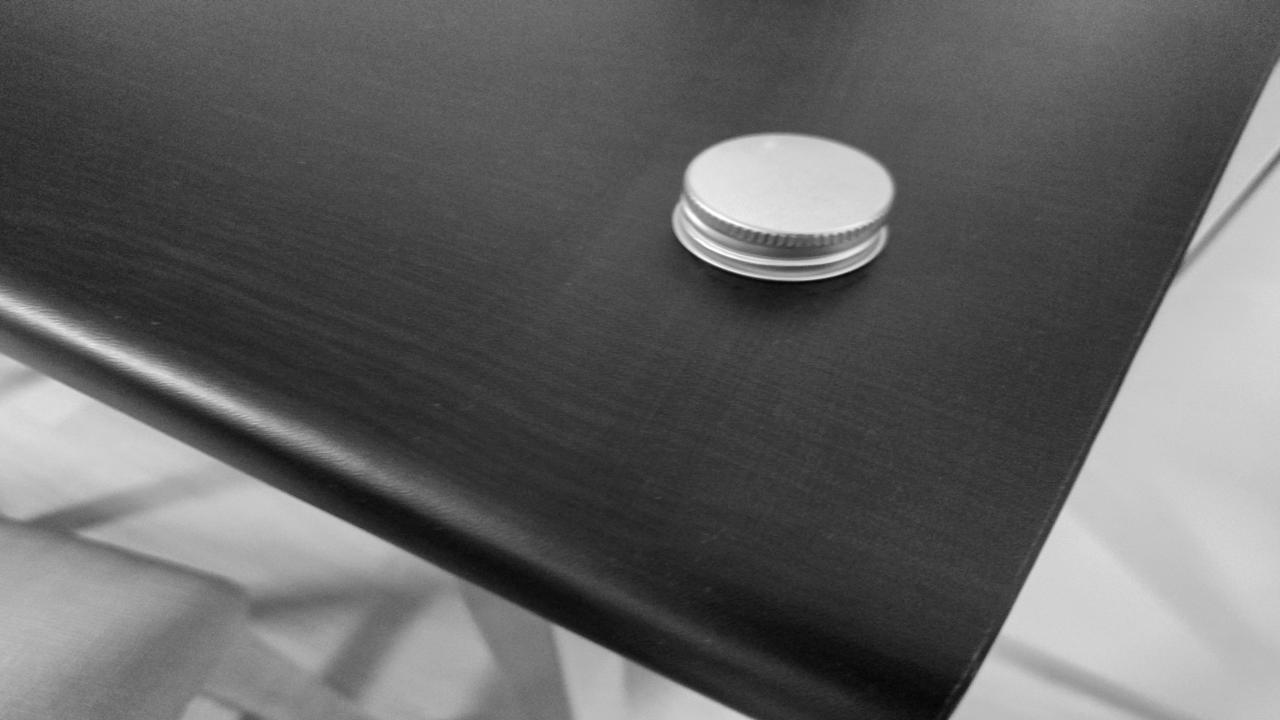bottle_cap: (665, 126, 896, 286)
